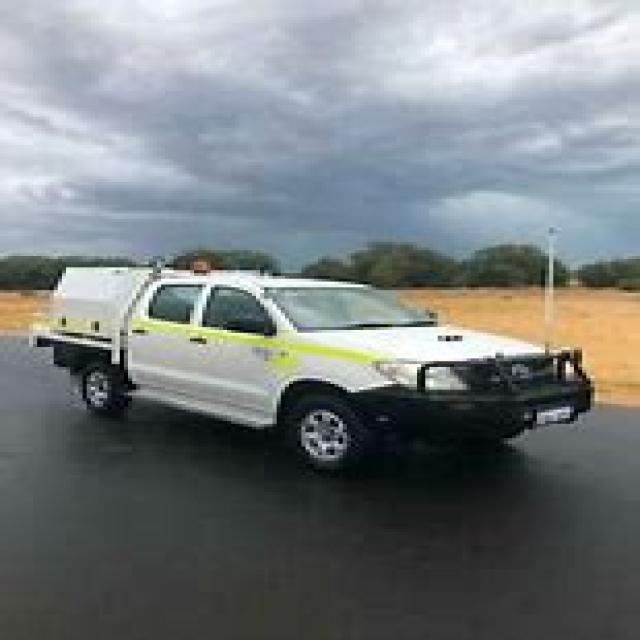light_vehicle: (29, 239, 607, 486)
